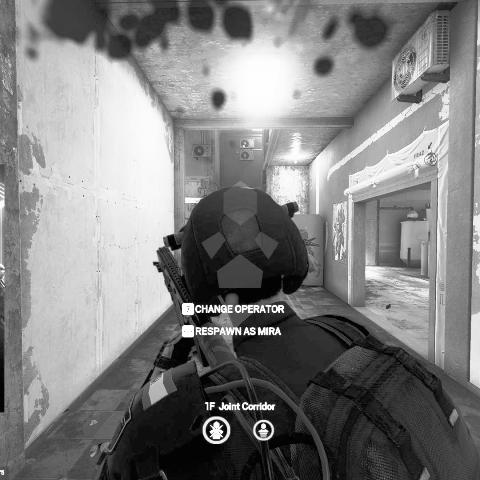Character: (92, 183, 480, 479)
Head: (159, 184, 310, 320)
